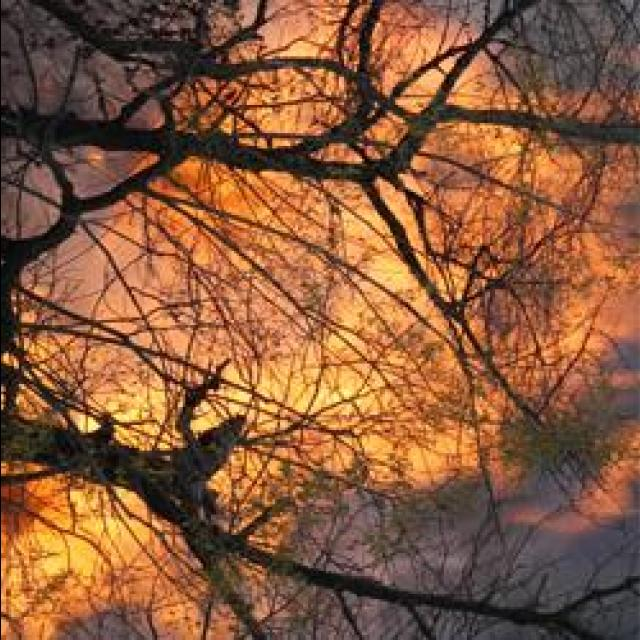fire: (468, 214, 640, 412), (2, 480, 166, 626)
